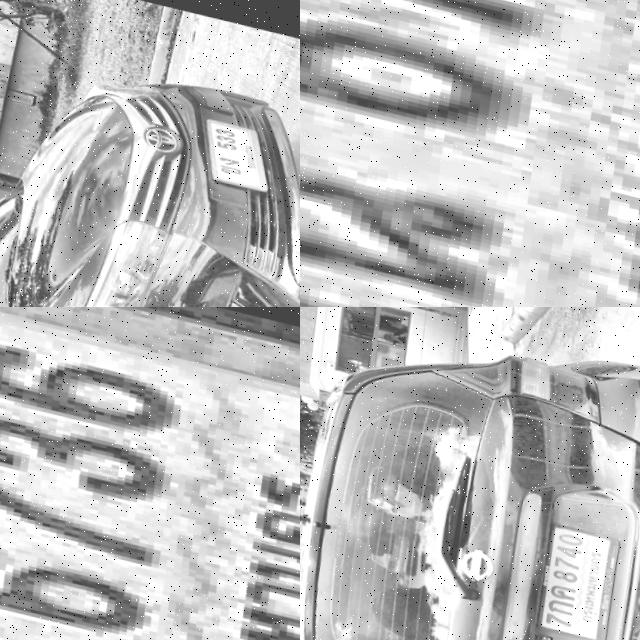license-plate: (300, 0, 640, 307), (0, 307, 300, 640), (529, 515, 624, 639), (191, 106, 282, 190)
